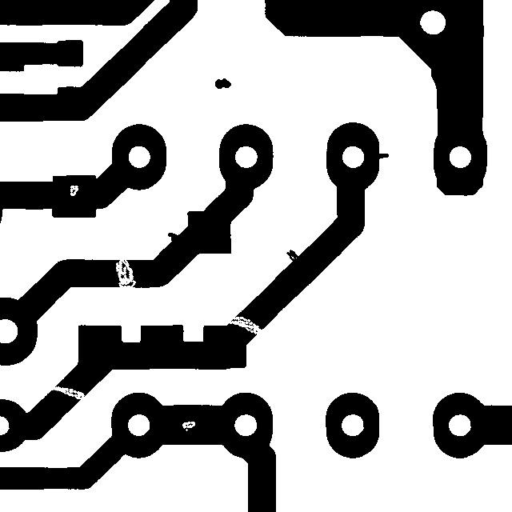copper: (207, 70, 238, 96)
open: (219, 309, 269, 342), (108, 250, 143, 295), (43, 378, 92, 407)
pin-hole: (174, 414, 202, 438), (62, 178, 86, 203)
spur: (278, 242, 307, 272), (160, 225, 187, 249), (368, 146, 396, 166)
